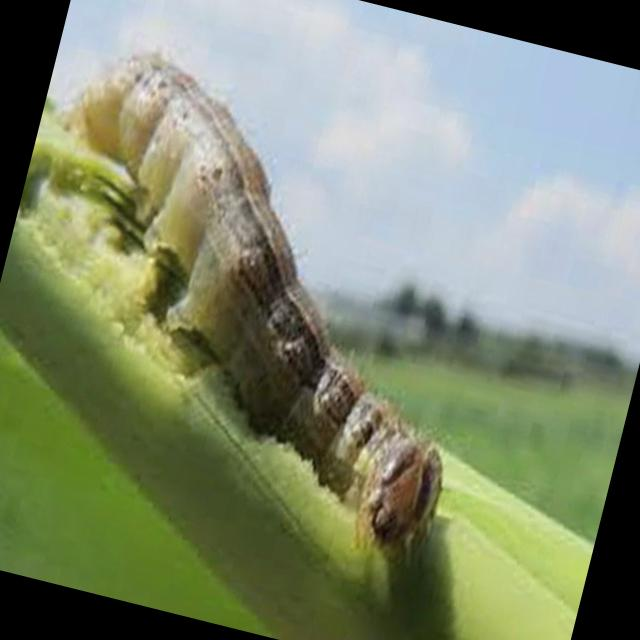pest: (1, 48, 526, 542)
